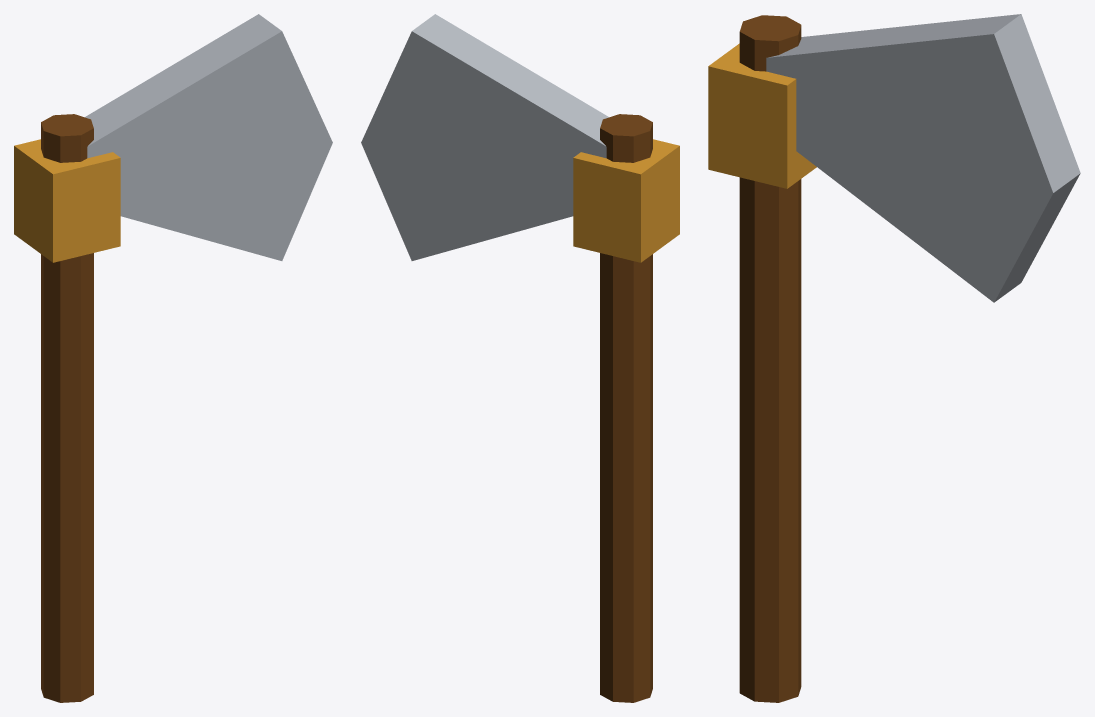
Rendered from throwing-axe.glb.
3 renders of one model, left to right at view 1: azimuth 30°, elevation 25°; view 2: azimuth 150°, elevation 25°; view 3: azimuth 330°, elevation 25°, orthographic. The views are drawn at different scales.
Visible parts, largest first — view 1: throwing-axe; view 2: throwing-axe; view 3: throwing-axe.
Boxes of the visible parts, box(x1,y1,x2,y2) form: throwing-axe: box(14, 14, 332, 702); throwing-axe: box(361, 14, 679, 702); throwing-axe: box(708, 14, 1080, 702).
Bounding box in the file's own units: 0.17 × 0.35 × 0.04.
